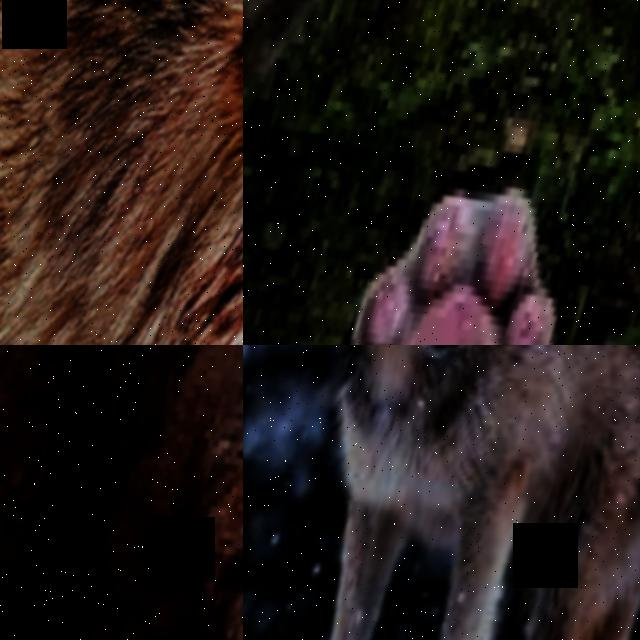wolf: (243, 345, 640, 640), (0, 0, 243, 345), (0, 345, 243, 640), (243, 0, 412, 345)
